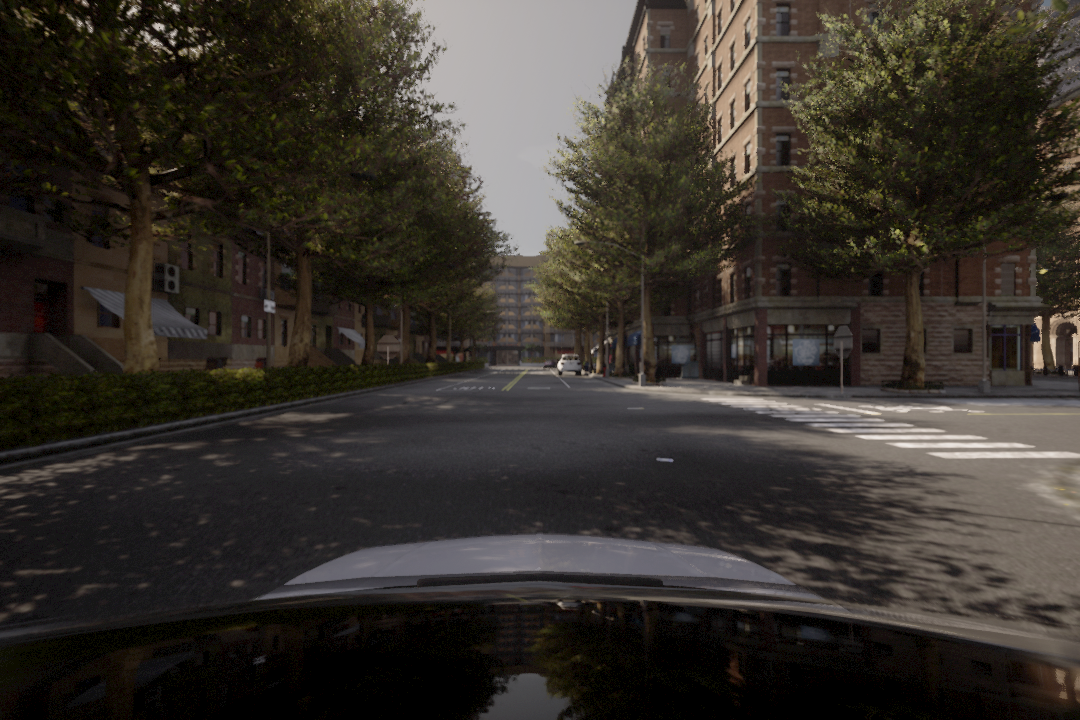walkside: (702, 394, 1080, 467)
